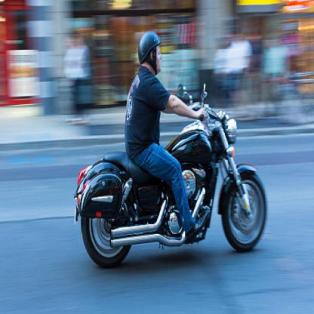Motocicleta: (70, 94, 270, 262)
